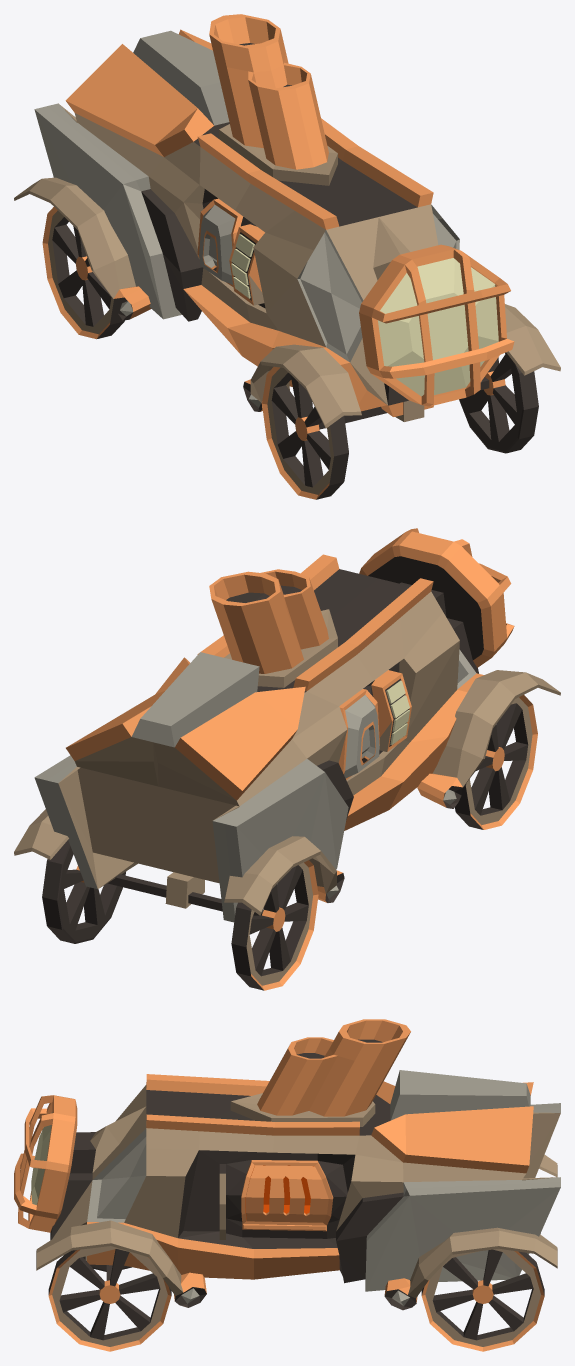
File: carro.glb
3 renders of one model, top to bottom at view 1: azimuth 30°, elevation 25°; view 2: azimuth 150°, elevation 25°; view 3: azimuth 270°, elevation 25°, orthographic. The views are drawn at different scales.
Visible parts, largest first — view 1: carro, foco, Rueda_TR, parabarros, parabarrosB, Rueda_BR.001, Rueda_TL, eje; view 2: carro, foco, Rueda_BR.001, parabarros, Rueda_TR, parabarrosB, Rueda_BL, EjeB; view 3: carro, Rueda_TL, Rueda_BL, foco, parabarros, parabarrosB, Caldera.
Part boxes in pixels (<box>): carro: <box>34,14,481,416</box>; foco: <box>359,244,514,406</box>; Rueda_TR: <box>262,366,348,499</box>; parabarros: <box>243,304,560,428</box>; parabarrosB: <box>14,177,151,320</box>; Rueda_BR.001: <box>42,207,124,339</box>; Rueda_TL: <box>459,352,538,453</box>; eje: <box>319,377,489,429</box>; carro: <box>34,554,483,922</box>; foco: <box>359,528,514,667</box>; Rueda_BR.001: <box>231,860,318,990</box>; parabarros: <box>417,670,560,808</box>; Rueda_TR: <box>455,695,537,829</box>; parabarrosB: <box>14,809,344,915</box>; Rueda_BL: <box>42,840,125,943</box>; EjeB: <box>107,872,263,915</box>; carro: <box>50,1019,560,1291</box>; Rueda_TL: <box>48,1246,171,1351</box>; Rueda_BL: <box>421,1248,544,1351</box>; foco: <box>14,1095,77,1232</box>; parabarros: <box>36,1220,206,1307</box>; parabarrosB: <box>384,1154,557,1310</box>; Caldera: <box>246,1165,328,1222</box>.
Bounding box in the file's own units: 2.69 × 3.38 × 6.04.
